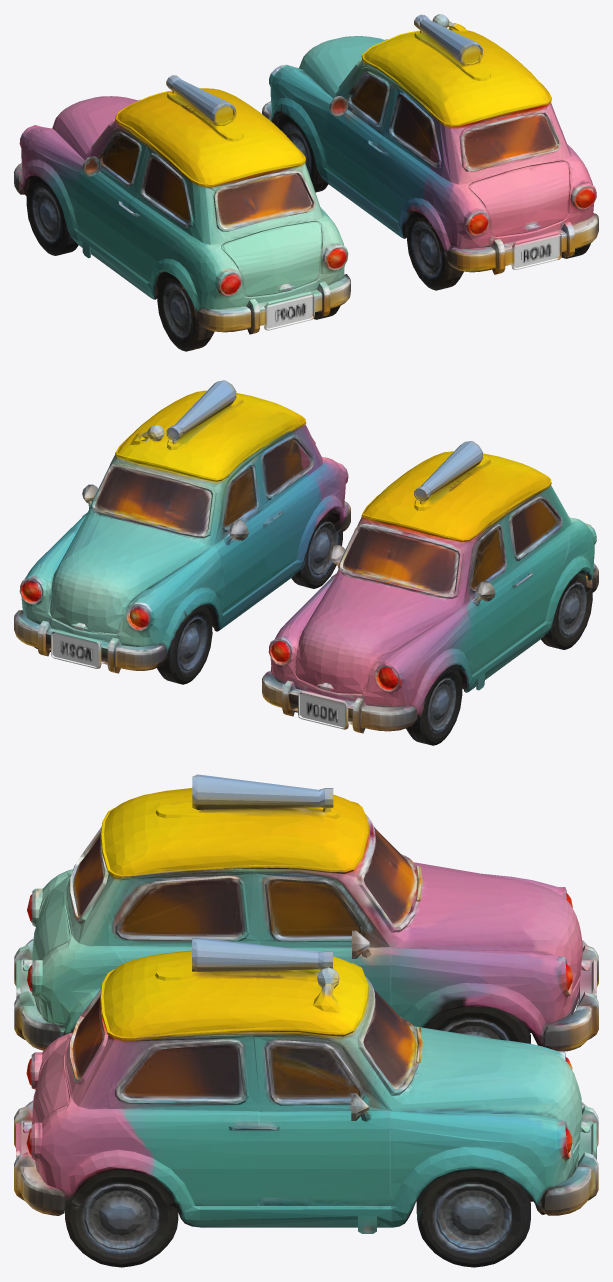
3 views of the same model, one above another, from view 1: azimuth 30°, elevation 25°; view 2: azimuth 150°, elevation 25°; view 3: azimuth 270°, elevation 25° (orthographic). The views are drawn at different scales.
Parts seen in each view (by area): view 1: mesh_input; view 2: mesh_input; view 3: mesh_input.
Boxes of the visible parts, box(x1,y1,x2,y2) form: mesh_input: box(14, 14, 598, 351); mesh_input: box(14, 380, 598, 745); mesh_input: box(14, 774, 598, 1267).
Bounding box in the file's own units: 1.9 × 0.9164 × 1.73.
